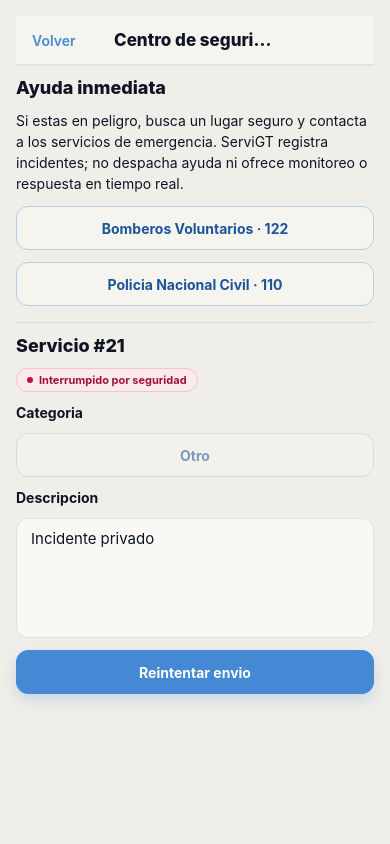
Scenario: recupera una interrupcion cuya respuesta se perdio aun en estado terminal
Click the text "Reintentar envio": (195, 672) x1=139 y1=664 x2=251 y2=680
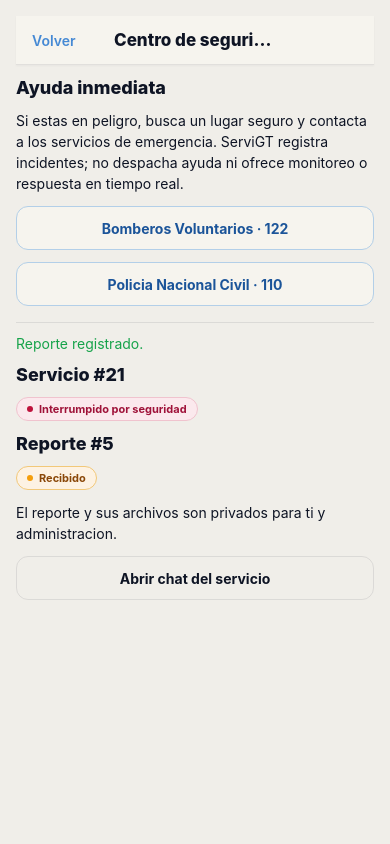
Expected: the text "Reporte registrado." is shown, x1=16 y1=335 x2=143 y2=352
